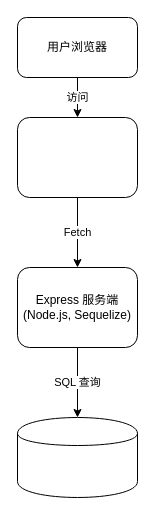
This 155x515 diagram has some shape labels left out. The shapes that lost their labels are listed below. From the top down, each one's centre as x and y in pixels, then its label:
At (77,157): "Vue3 客户端 (Vuetify 3, ECharts)".
At (77,457): "SQL 数据库".
